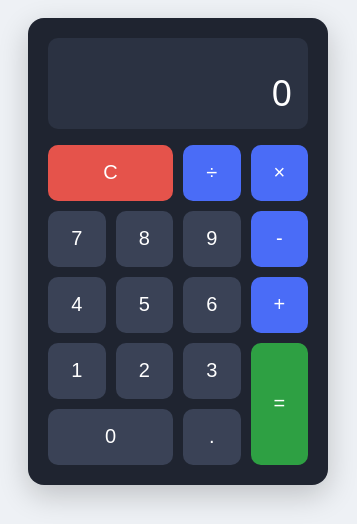
Test case: Calculator UI › clicking number buttons updates the display
Expected: the text with test id "display" reads "0", [271,68,292,116]
Step 1. Click the button "7" → (77, 238), box [48,210,106,266]
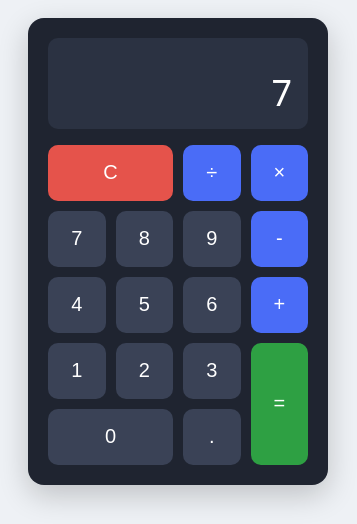
Step 2. Click the button "8" → (144, 238), box [116,210,173,266]
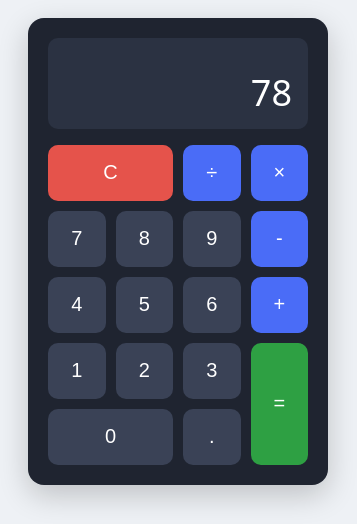
Step 3. Click the button "." → (212, 436), box [183,408,240,464]
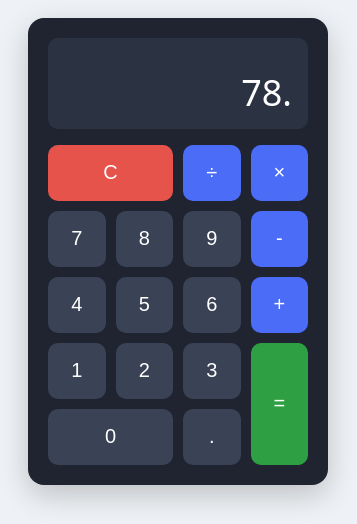
Step 4. Click the button "5" → (144, 304), box [116,276,173,332]
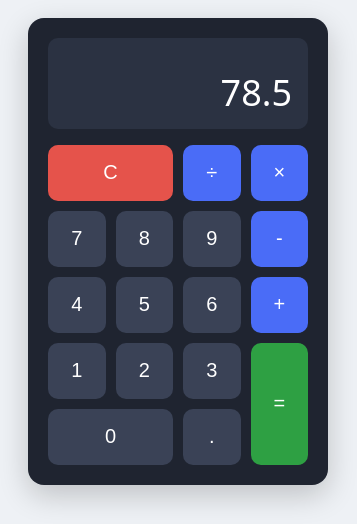
Now the text with test id "display" reads "78.5", box [221,68,292,116]
